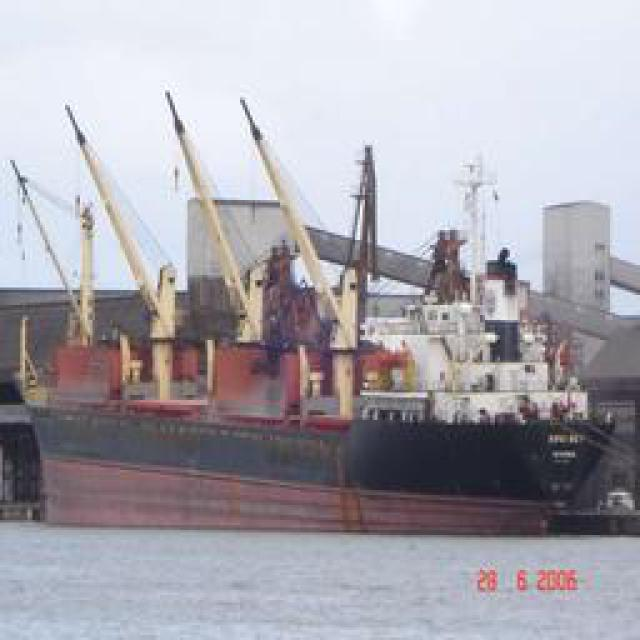Ship: (115, 94, 640, 514)
